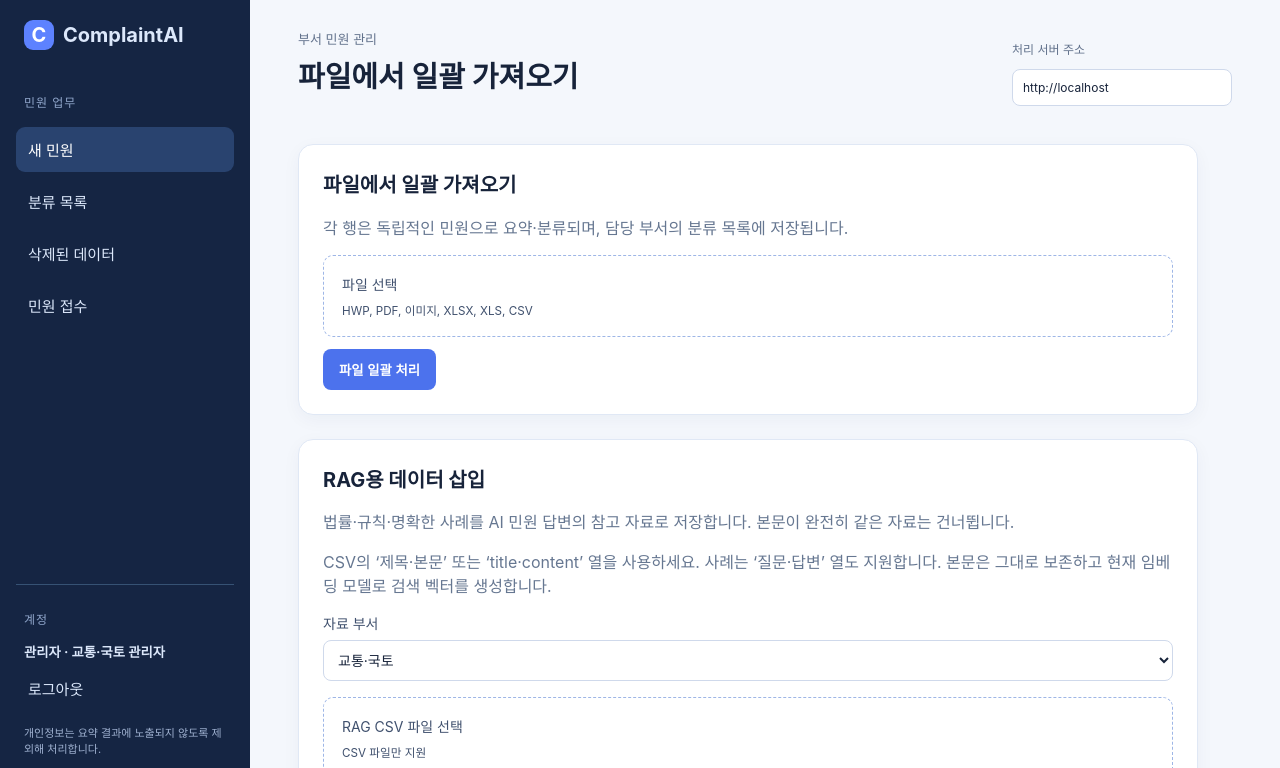
Test: 부서 민원 전체 삭제 › preserves the warning and moves every status, source and page with the default reason
This screenshot has width=1280, height=768.
Step 1. Click the button "분류 목록" → [125, 202], box [16, 179, 234, 224]
(page scrolled)
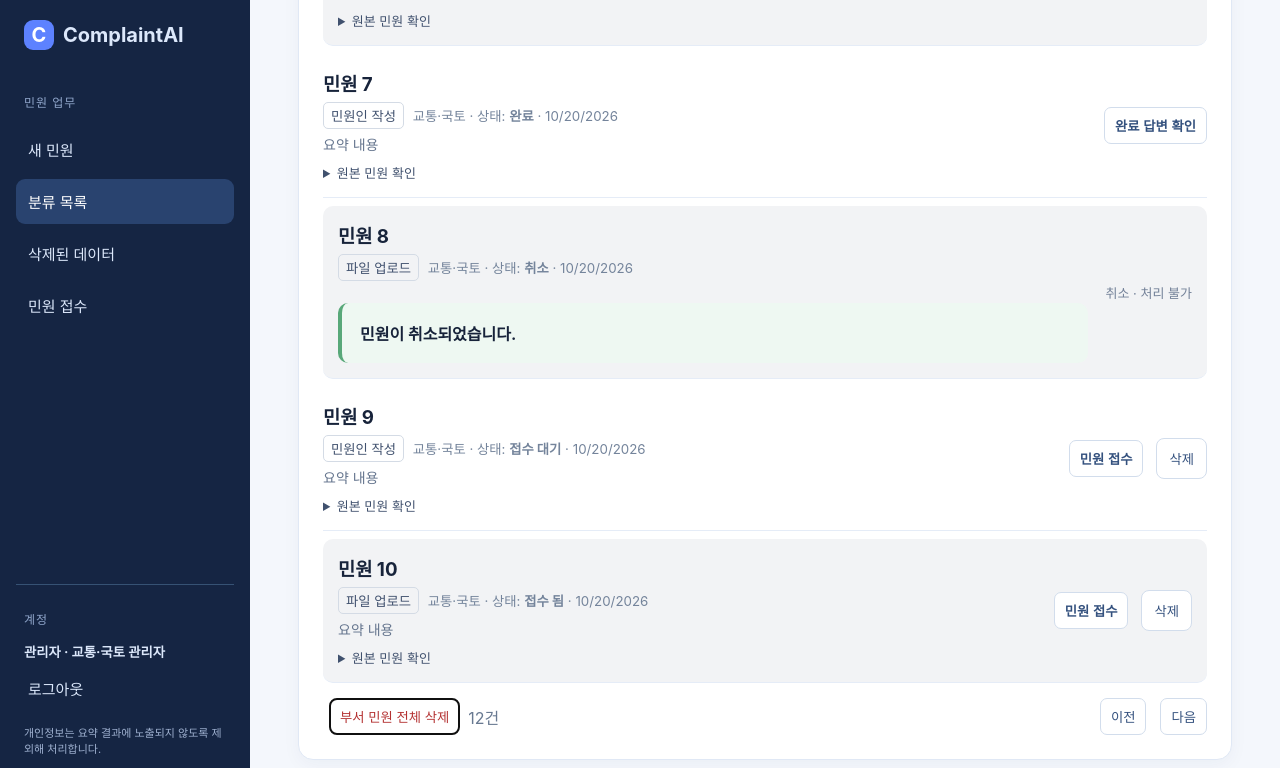
Step 2. Click the button "부서 민원 전체 삭제" → [395, 716], box [329, 698, 460, 735]
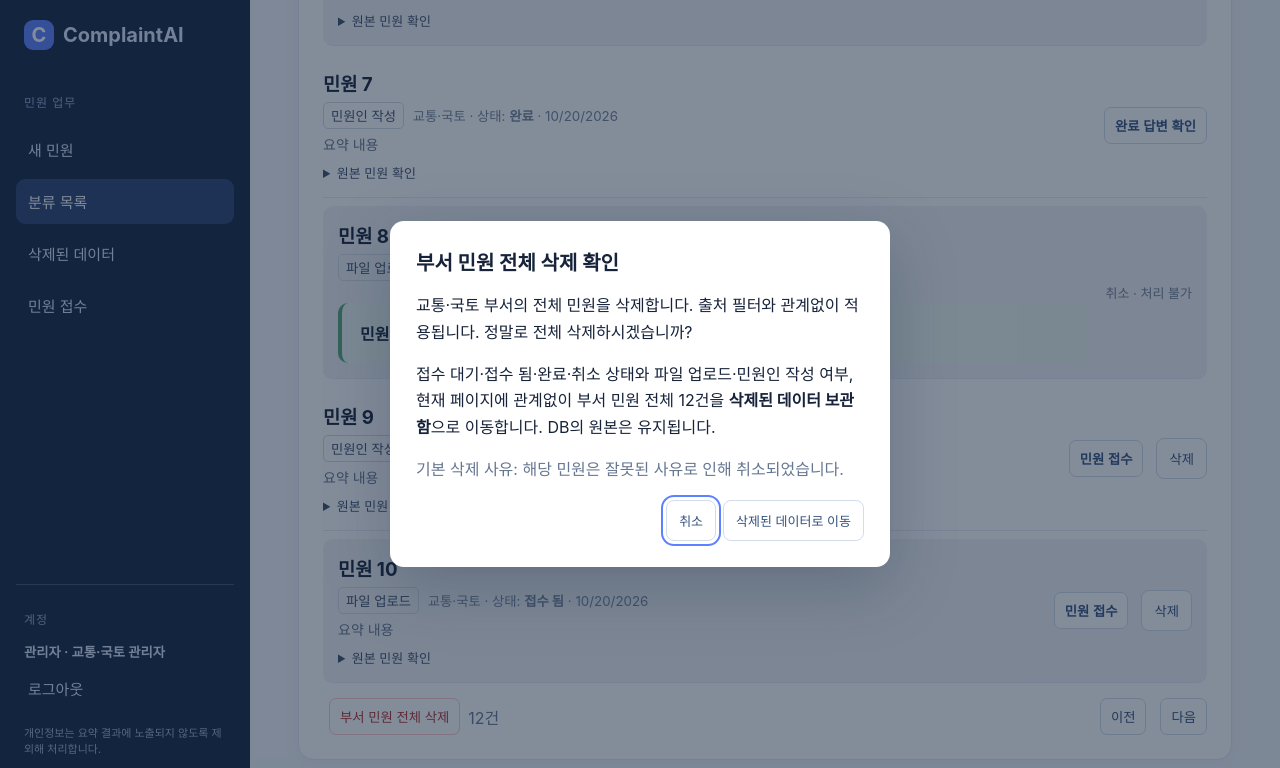
Check: the text "교통·국토 부서의 전체 민원을 삭제합니다. 출처 필터와 관계없이 적용됩니다. 정말로 전체 삭제하시겠습니까?" is shown, box [416, 292, 864, 345]
Check: the text "접수 대기·접수 됨·완료·취소" is shown, box [416, 364, 853, 410]
Step 3. Click the button "삭제된 데이터로 이동" → [794, 521], box [723, 500, 864, 542]
(page scrolled)
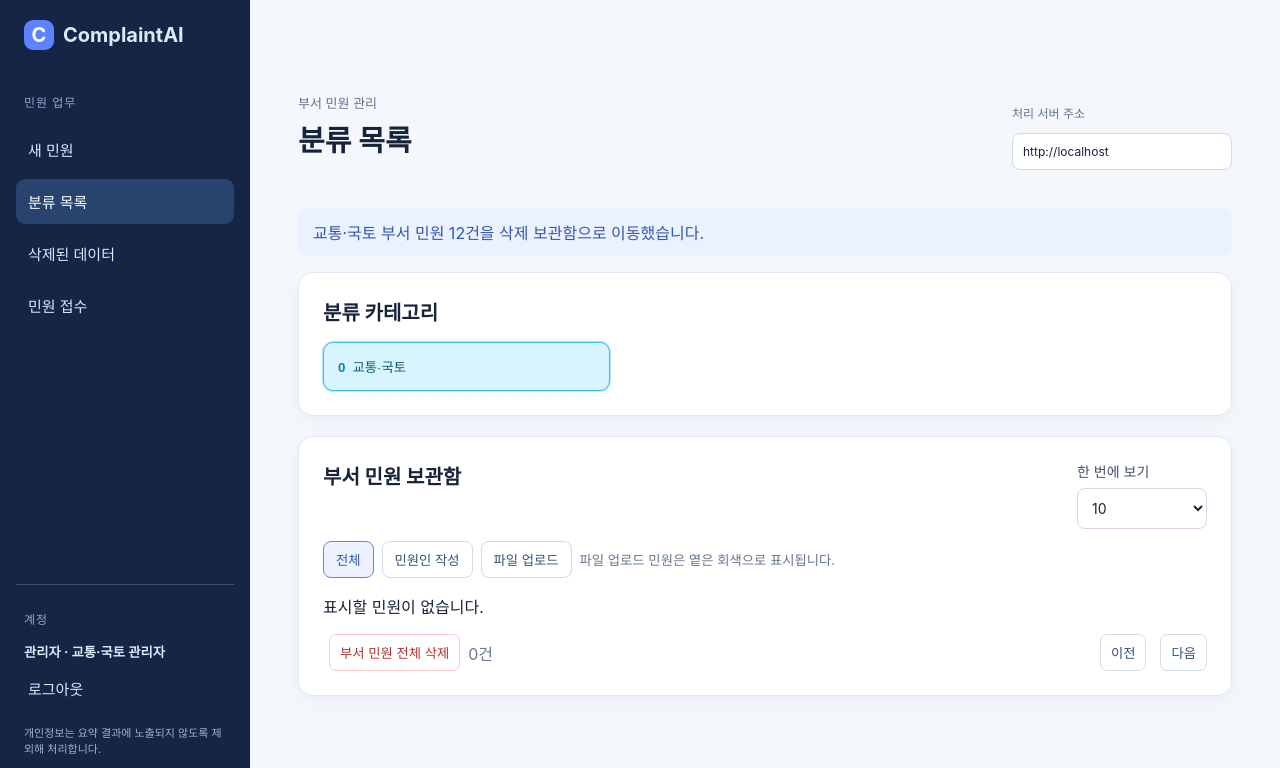
Check: the text "교통·국토 부서 민원 12건을 삭제 보관함으로 이동했습니다." is shown, box [298, 208, 1232, 256]
Check: the dialog is gone
Check: the text "표시할 민원이 없습니다." is shown, box [323, 597, 484, 617]
Step 4. Click the button "삭제된 데이터" → [125, 254], box [16, 231, 234, 276]
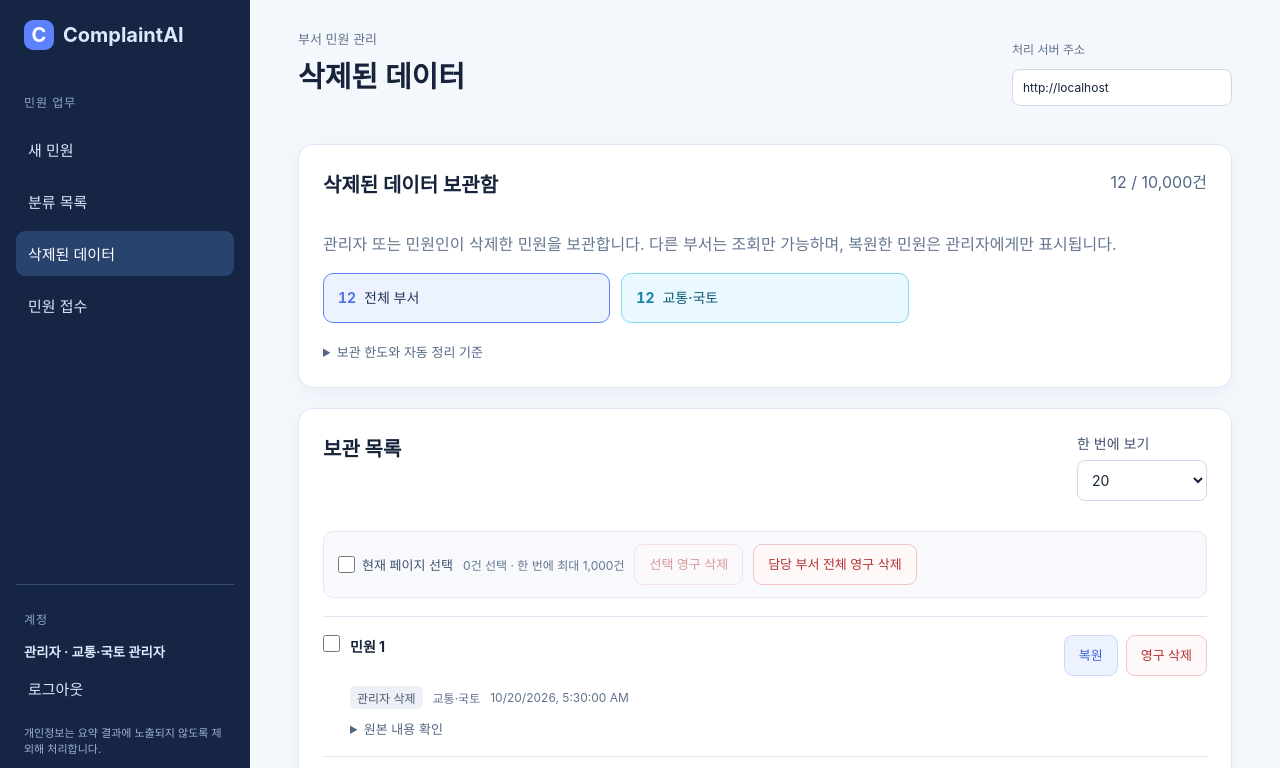
Check: the text "민원 1" is shown 12 times
Check: the button named "12교통·국토" is shown, box [621, 273, 909, 323]
Step 5. Click the heading "원본 내용 확인" → [403, 729], box [364, 721, 443, 737]
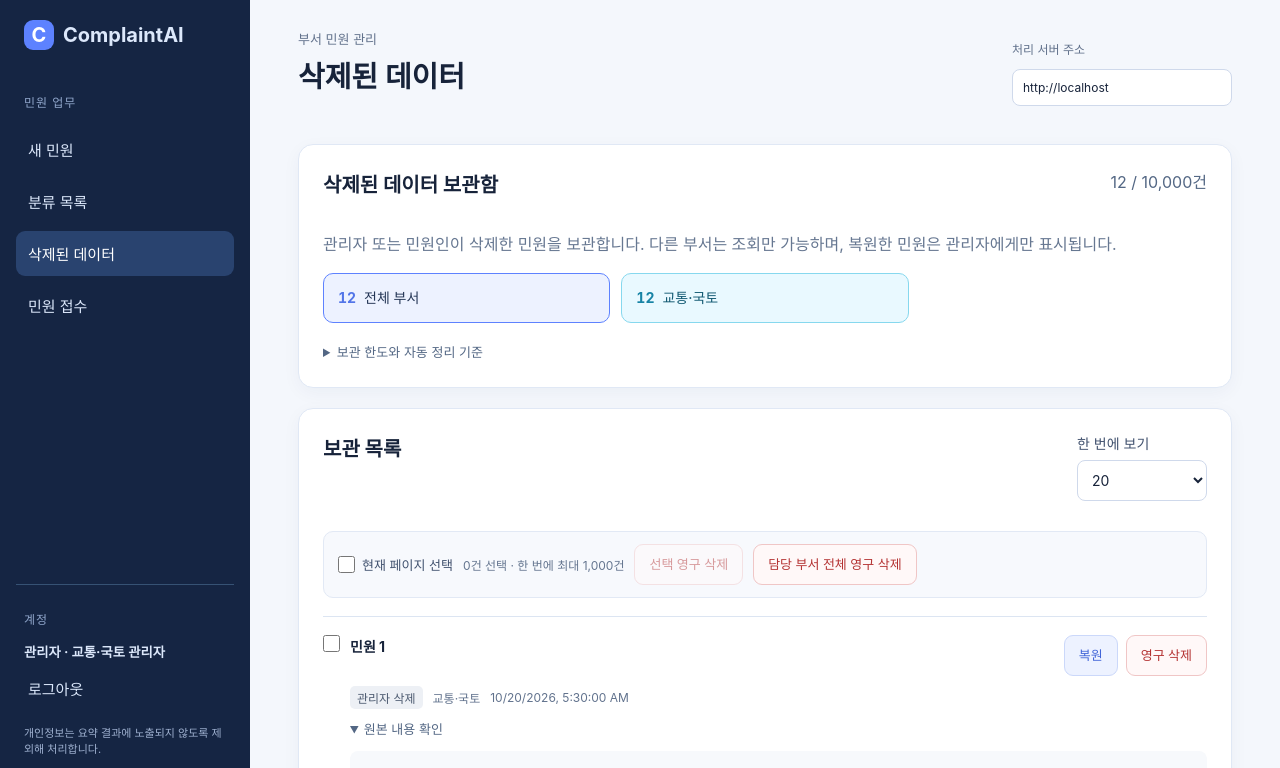
Step 6. Click the button "분류 목록" → [125, 202], box [16, 179, 234, 224]
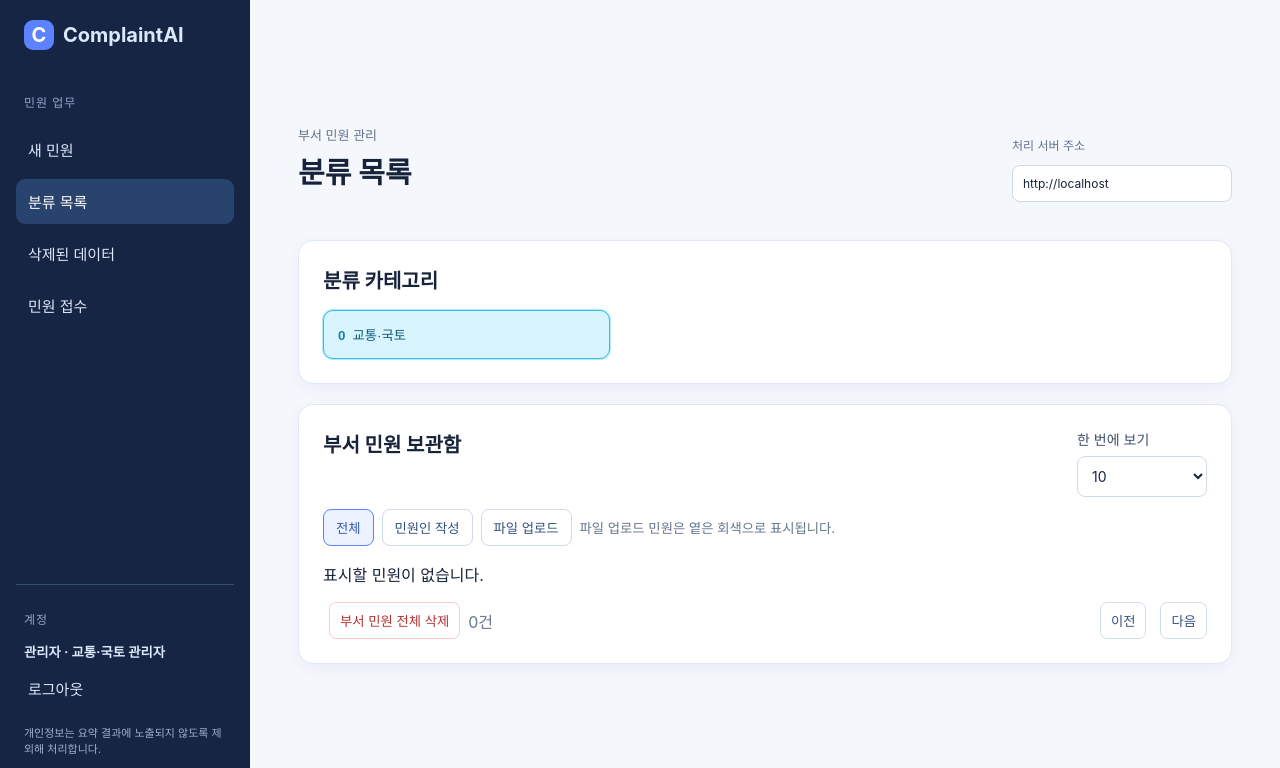
Check: the text "표시할 민원이 없습니다." is shown, box [323, 565, 484, 585]
Check: the text "민원 1" is gone
